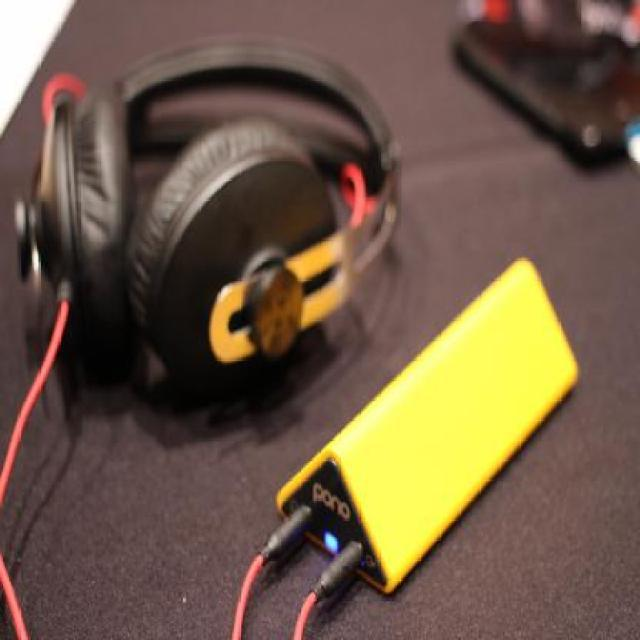earphone: (55, 27, 385, 383)
